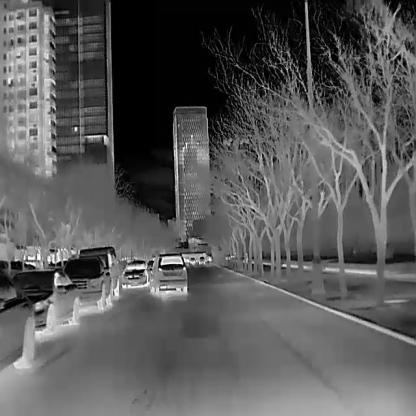car: (10, 268, 79, 332), (0, 270, 36, 371), (64, 256, 112, 311), (78, 246, 120, 299), (148, 251, 188, 293), (121, 258, 148, 287)
